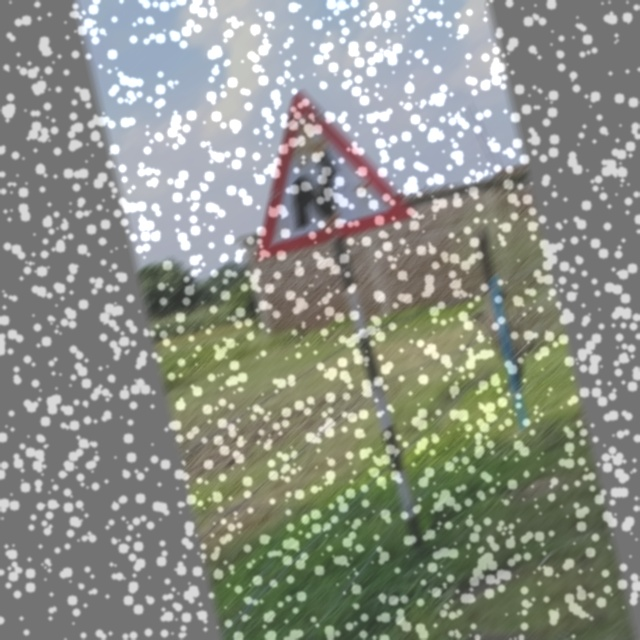Right_Reverse_Bend: (225, 74, 409, 256)
